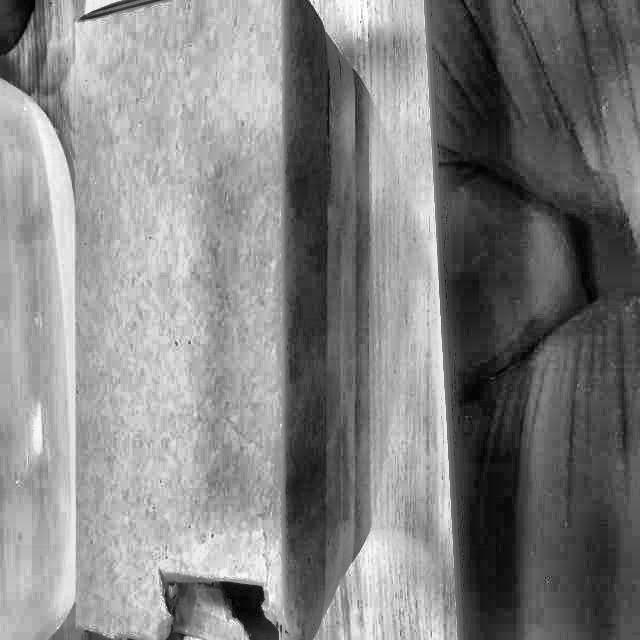box: (59, 9, 380, 640)
hole: (153, 558, 282, 640)
